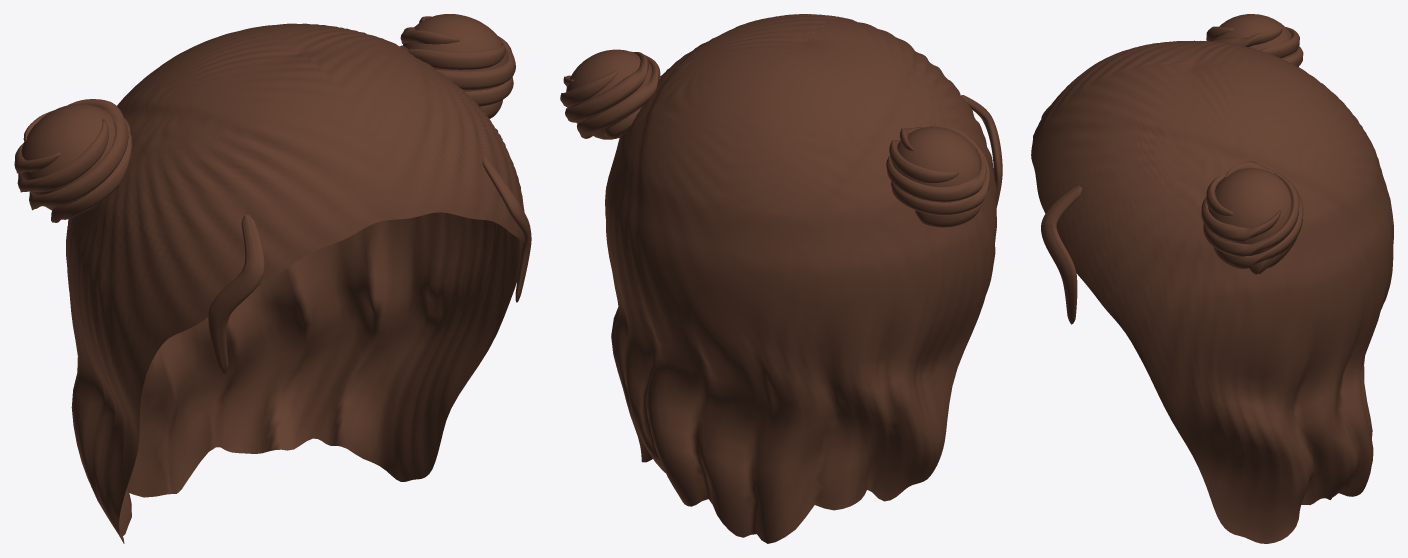
File: space-buns-headband.glb
3 renders of one model, left to right at view 1: azimuth 30°, elevation 25°; view 2: azimuth 150°, elevation 25°; view 3: azimuth 270°, elevation 25°, orthographic. The views are drawn at different scales.
Parts seen in each view (by area): view 1: 226 hair / Hair / chestnut226; view 2: 226 hair / Hair / chestnut226; view 3: 226 hair / Hair / chestnut226.
Part boxes in pixels (left/top/right/bottom): 226 hair / Hair / chestnut226: left=14, top=14, right=531, bottom=543; 226 hair / Hair / chestnut226: left=560, top=14, right=1002, bottom=543; 226 hair / Hair / chestnut226: left=1031, top=14, right=1393, bottom=543.
Bounding box in the file's own units: 0.977 × 0.965 × 0.7316.
